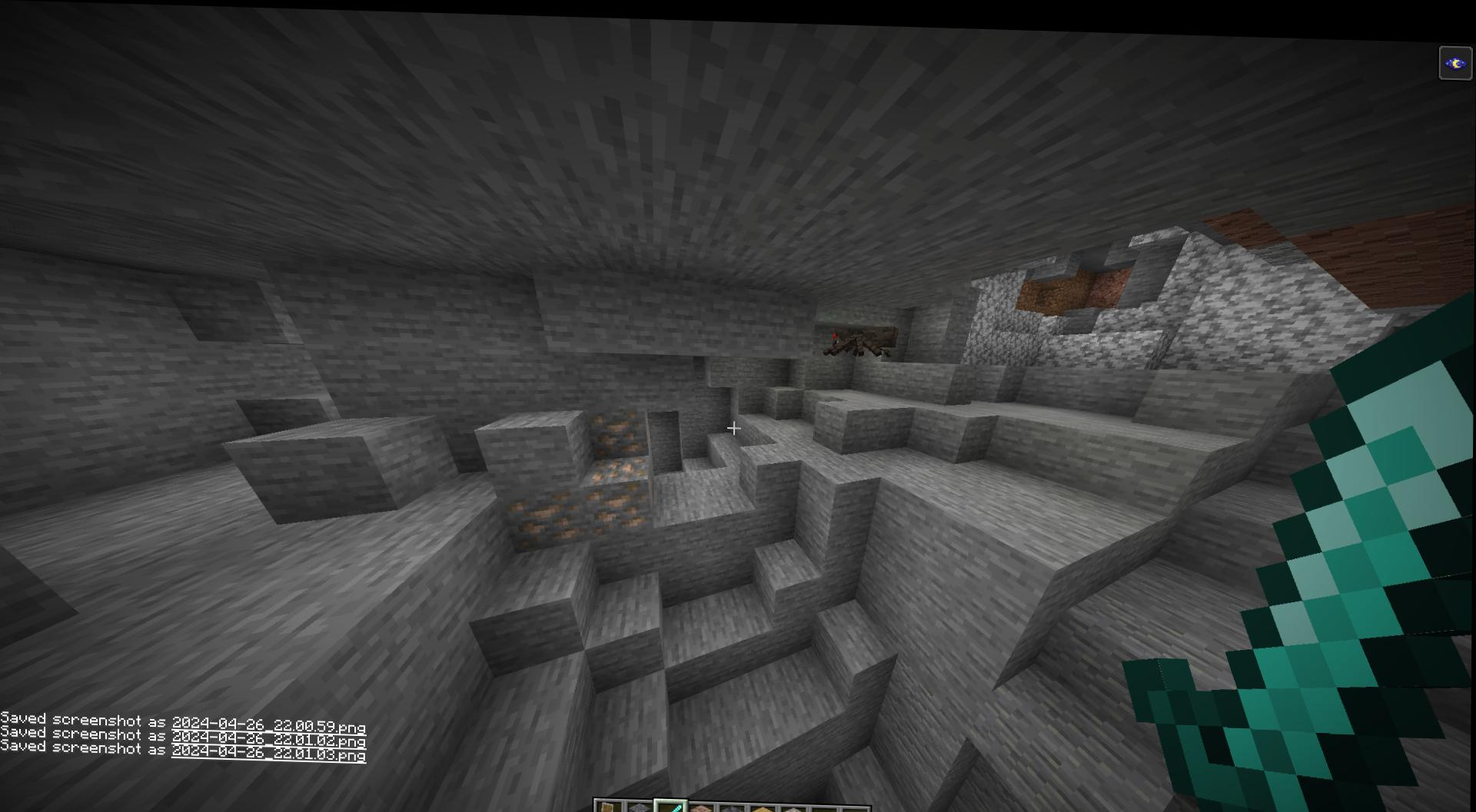iron ore: (505, 487, 585, 540), (583, 400, 652, 459), (585, 476, 655, 533), (590, 446, 653, 483)
